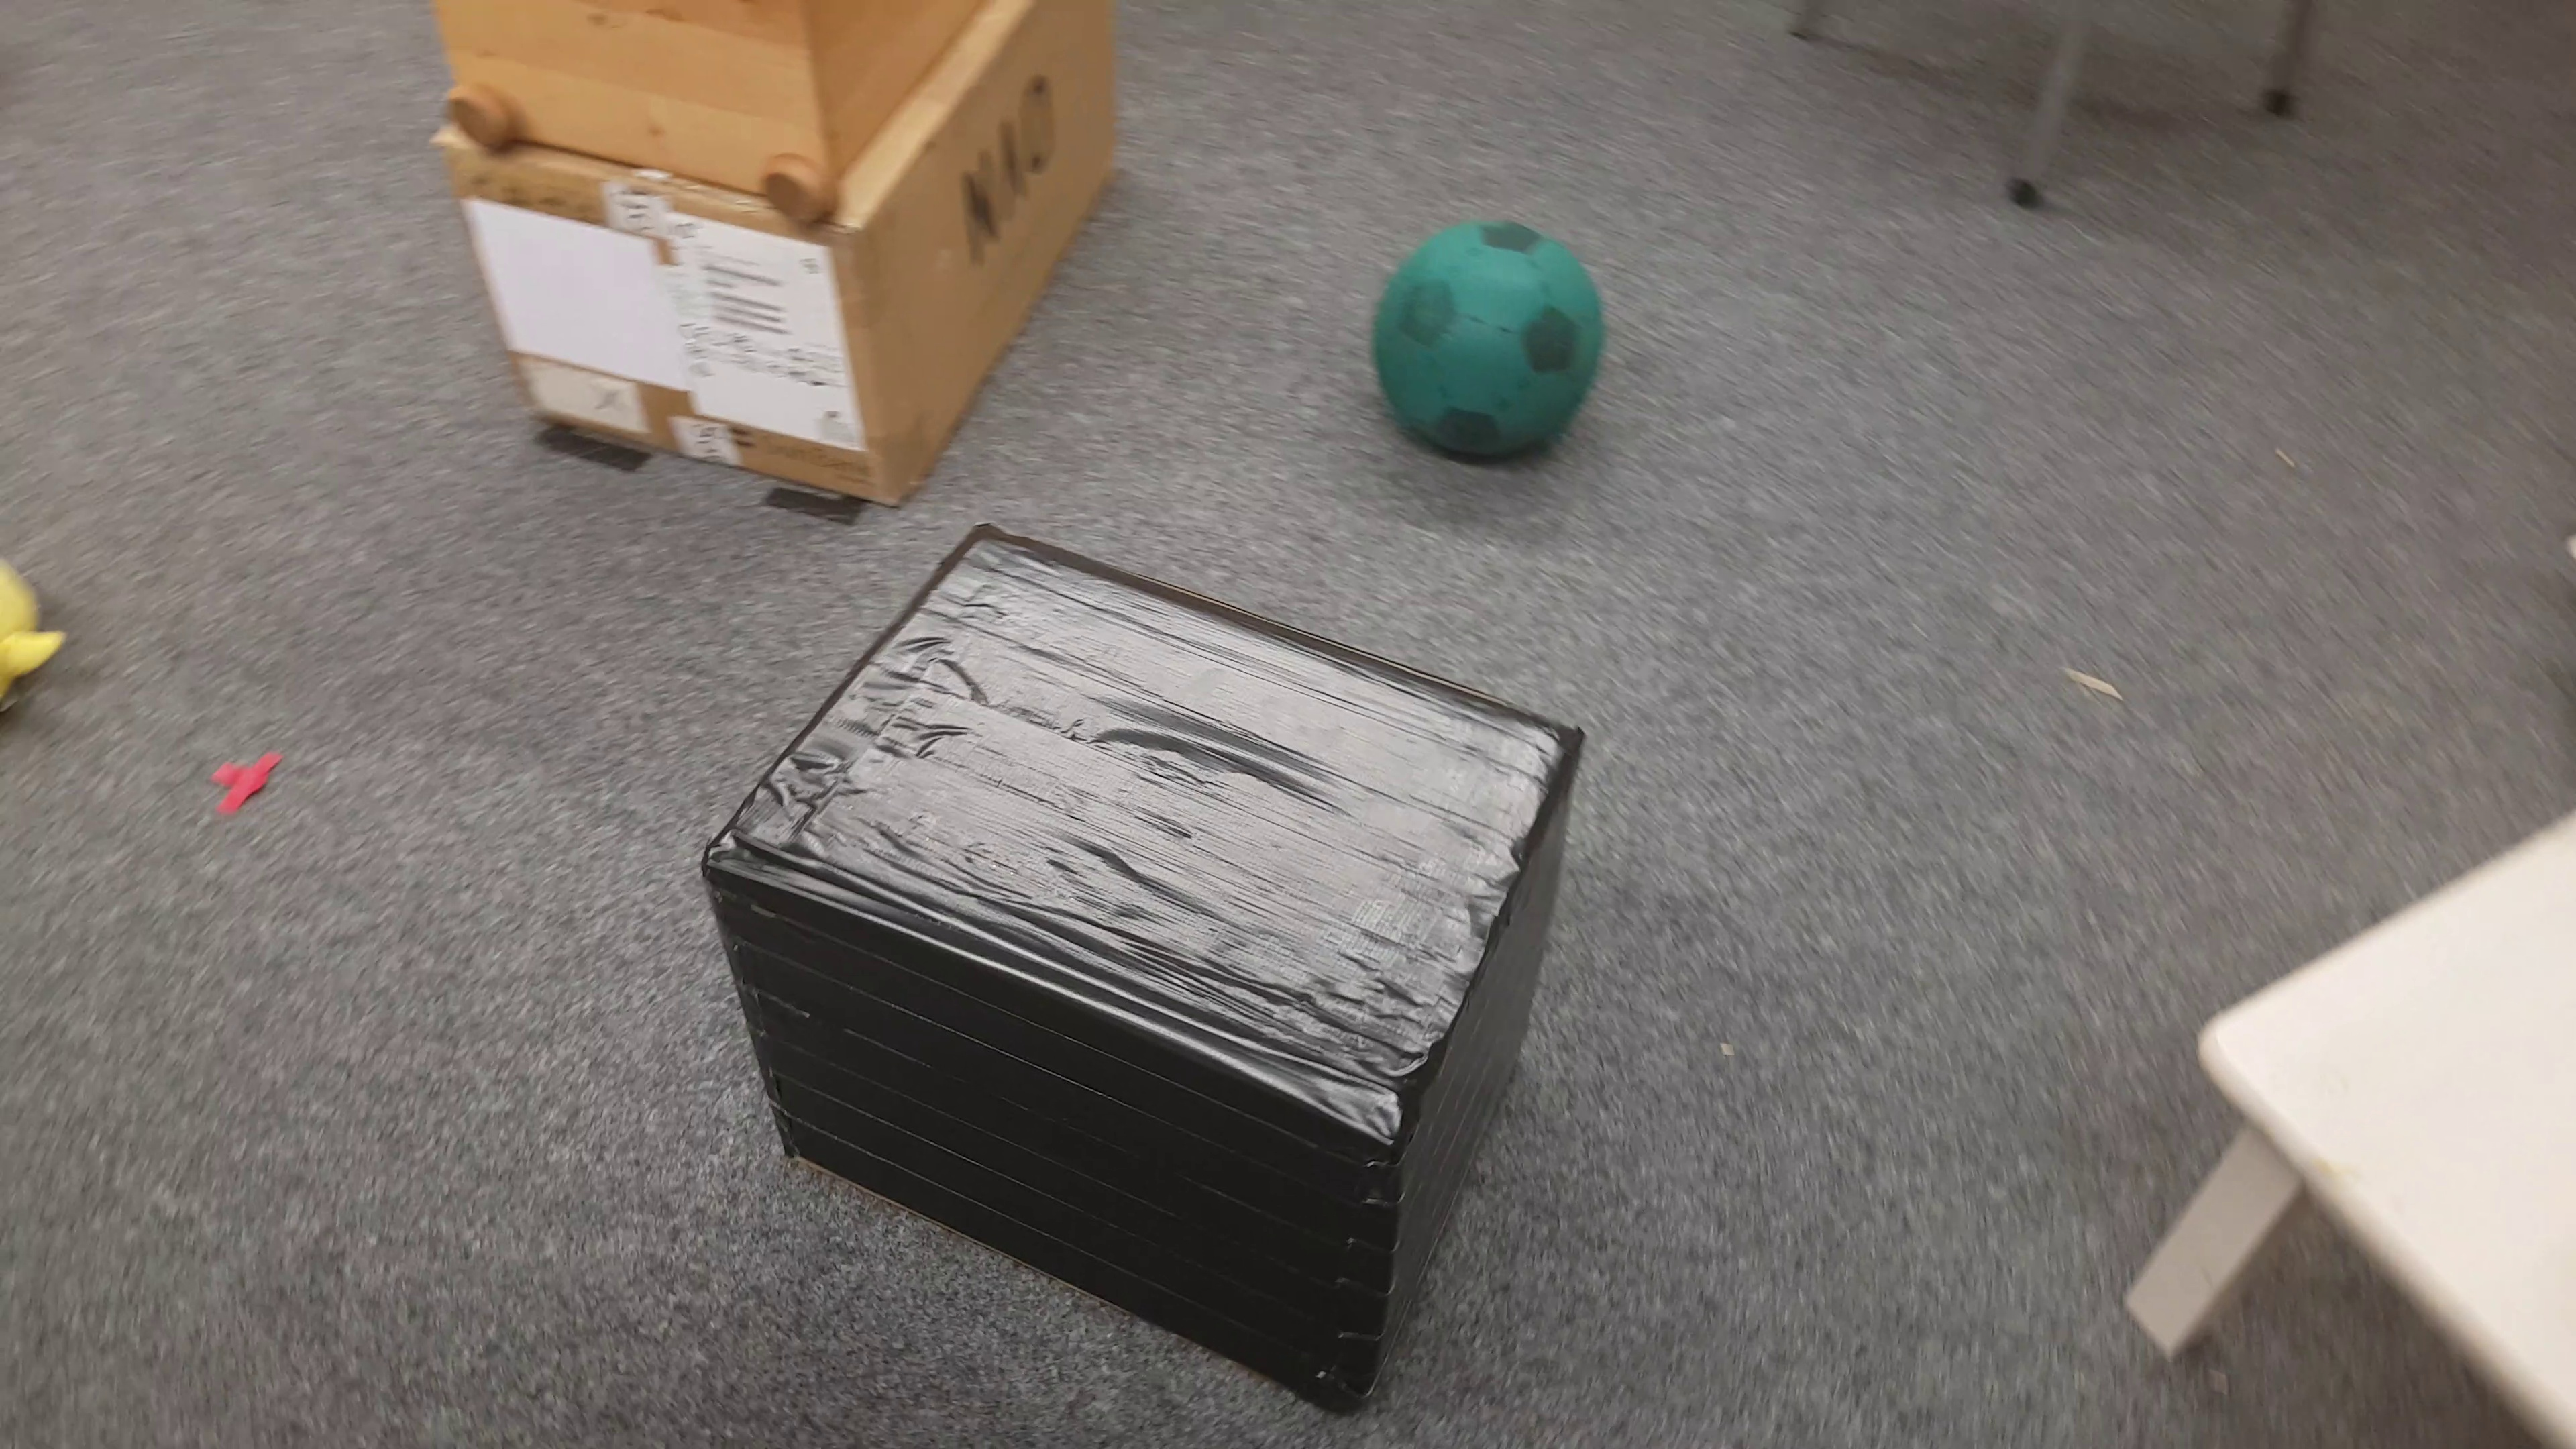grasp: (7, 564, 69, 727)
kick: (1375, 216, 1605, 469)
push: (709, 522, 1598, 1430)
